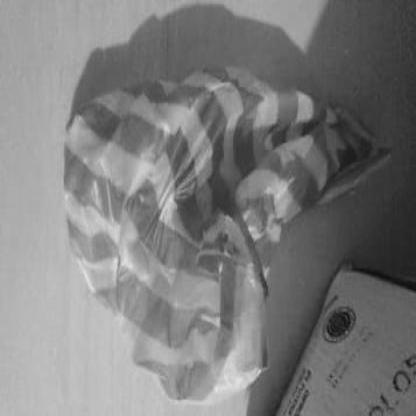objects: (54, 62, 377, 400)
